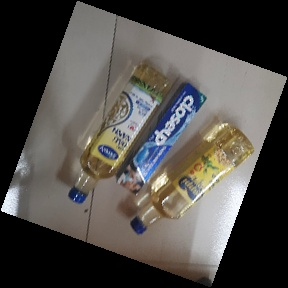CloseUp Tuyet: (112, 81, 209, 197)
Happy Soya: (129, 122, 255, 235)
Simply: (66, 61, 175, 209)
